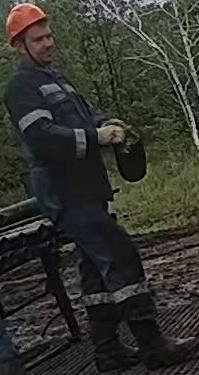helmet: (5, 2, 47, 45)
vest: (0, 68, 116, 205)
